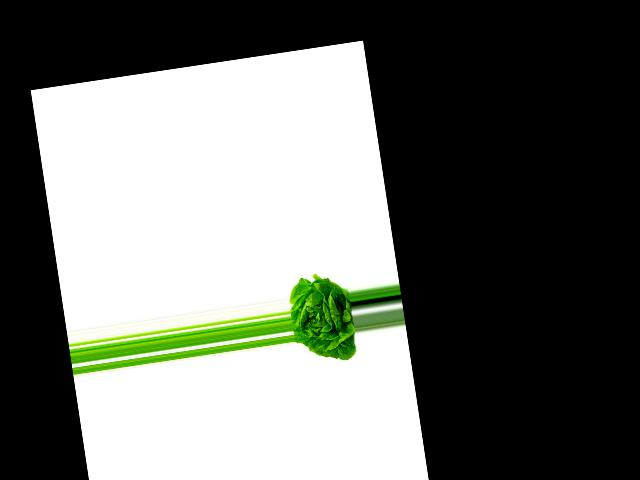lettuce: (286, 273, 359, 368)
